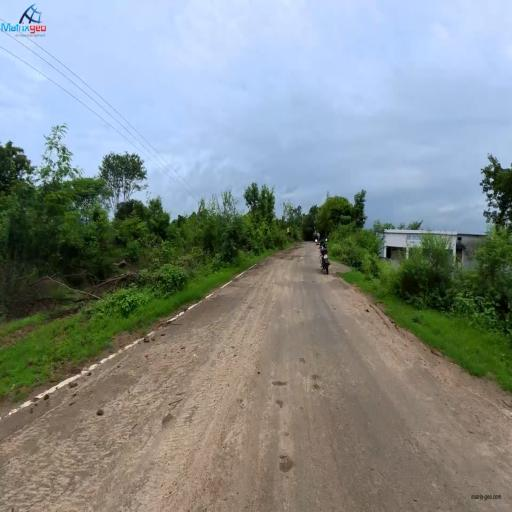ravelling: (81, 393, 183, 493)
